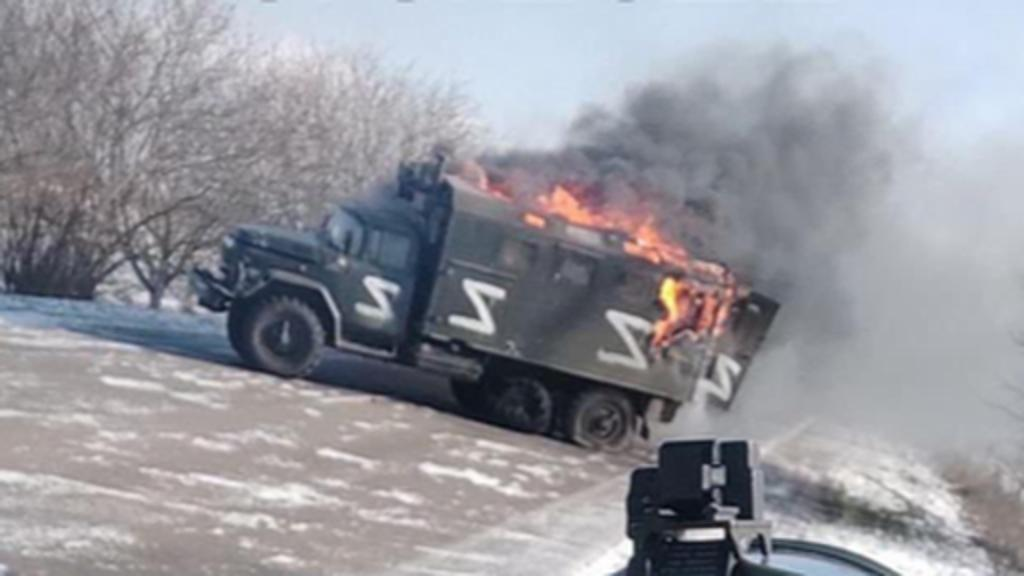TRUCK: (198, 150, 766, 454)
